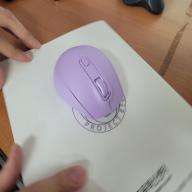mouse: (53, 45, 125, 122)
